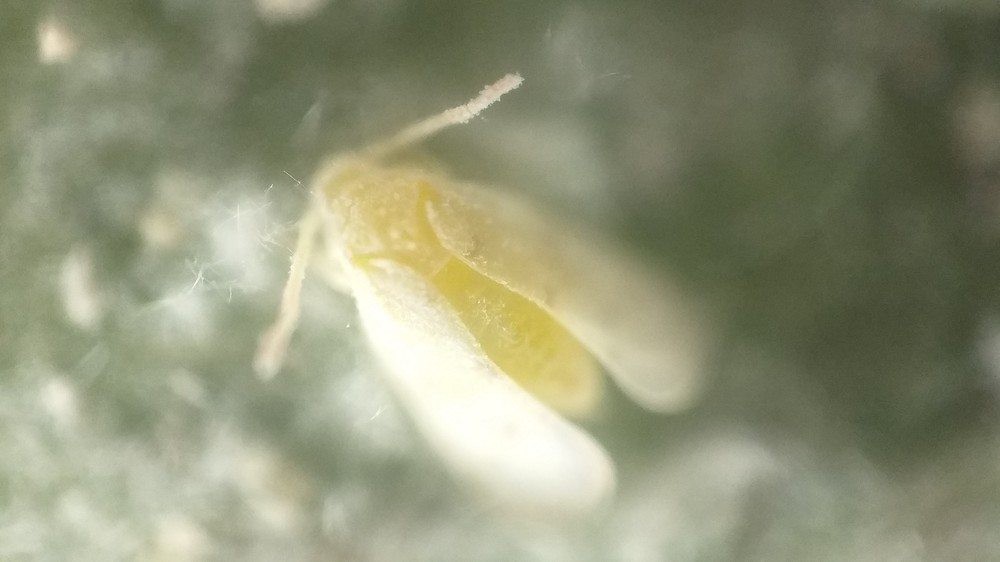Mosca Blanca: (240, 69, 744, 551)
